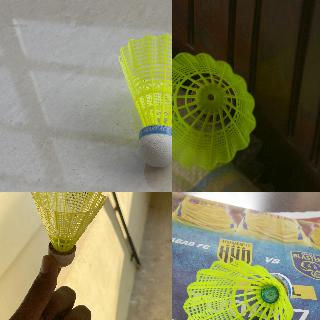shuttlecock: (172, 53, 256, 170), (117, 34, 171, 167), (183, 260, 294, 319), (31, 192, 106, 268)
